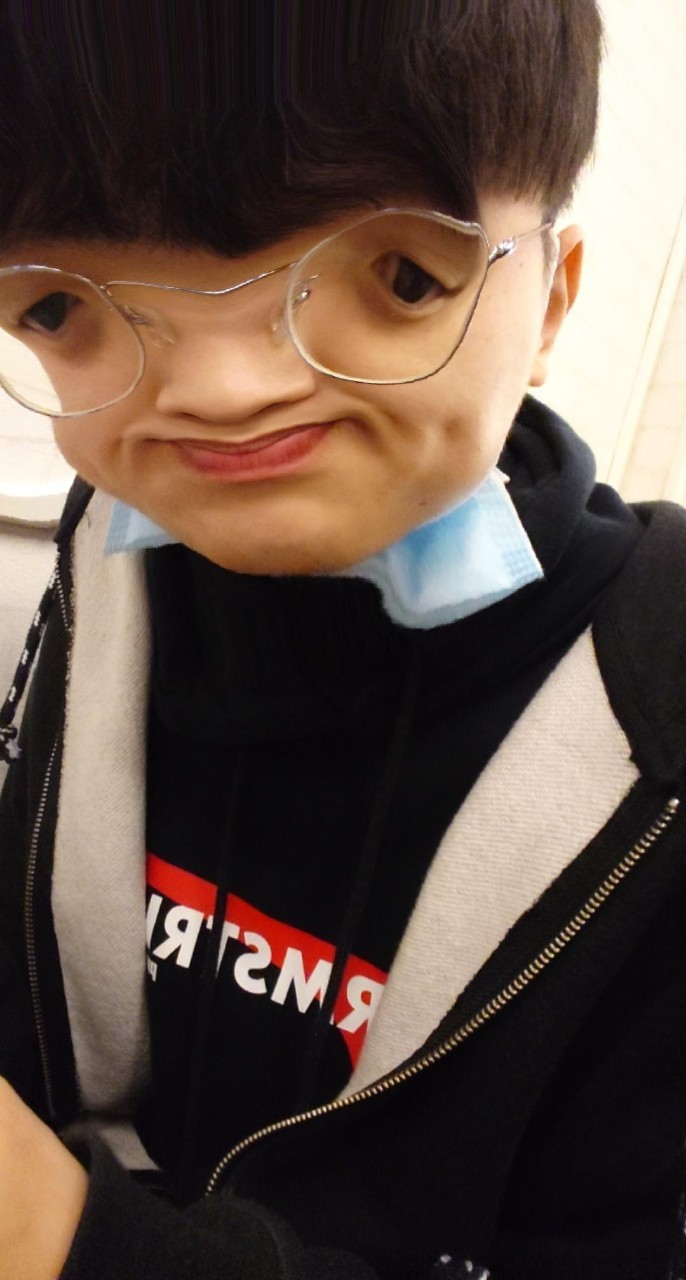people: (5, 1, 686, 1280)
